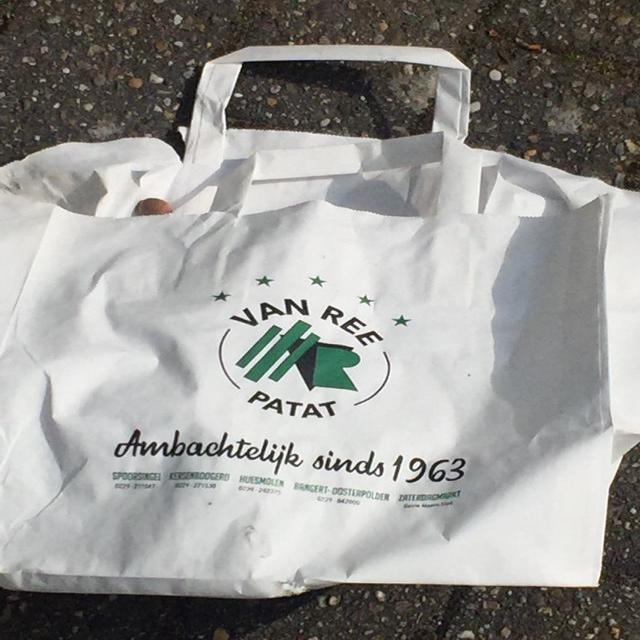Paper: (0, 39, 637, 606)
